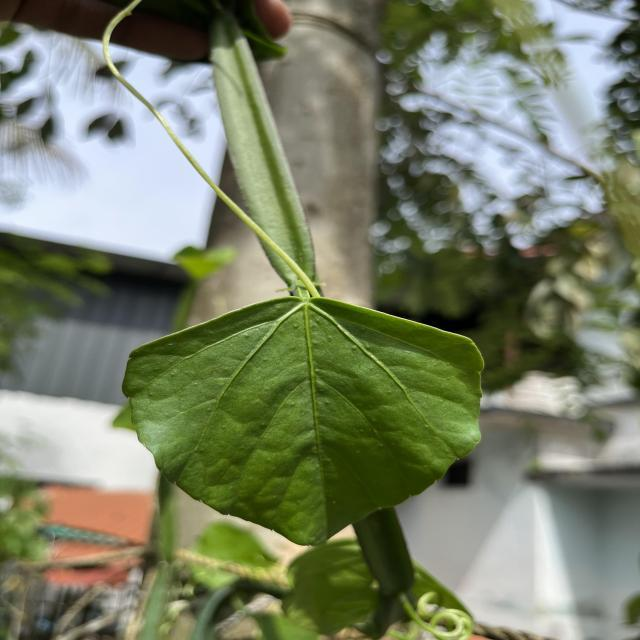Cissus quadrangularis: (120, 293, 488, 552)
